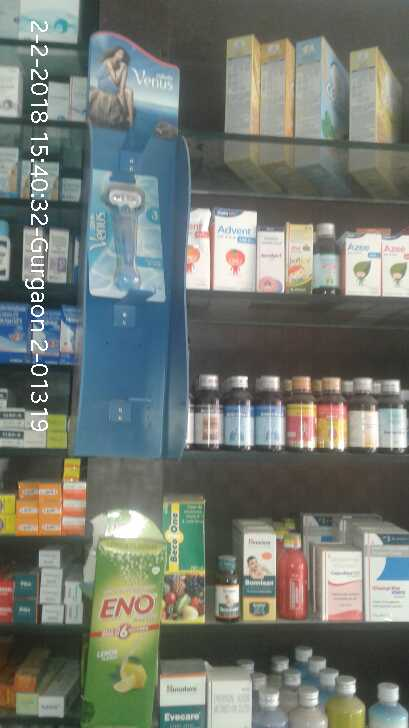venus: (84, 159, 169, 302)
